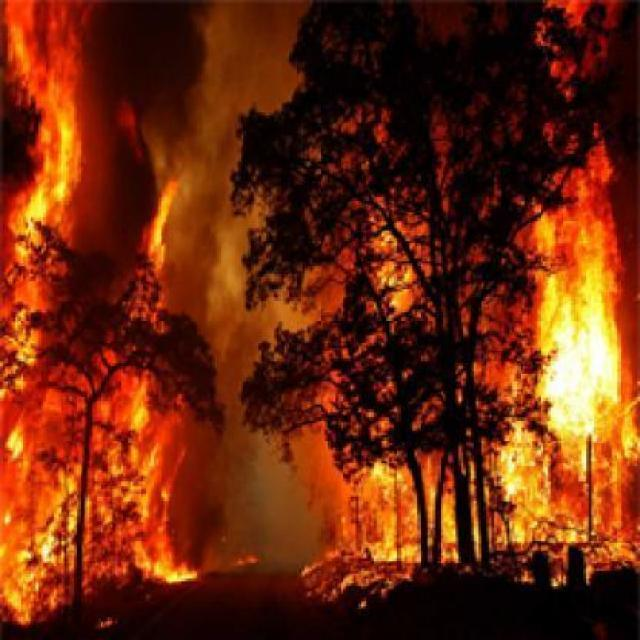Fire: (0, 0, 144, 613), (491, 173, 640, 550), (335, 423, 636, 588)
